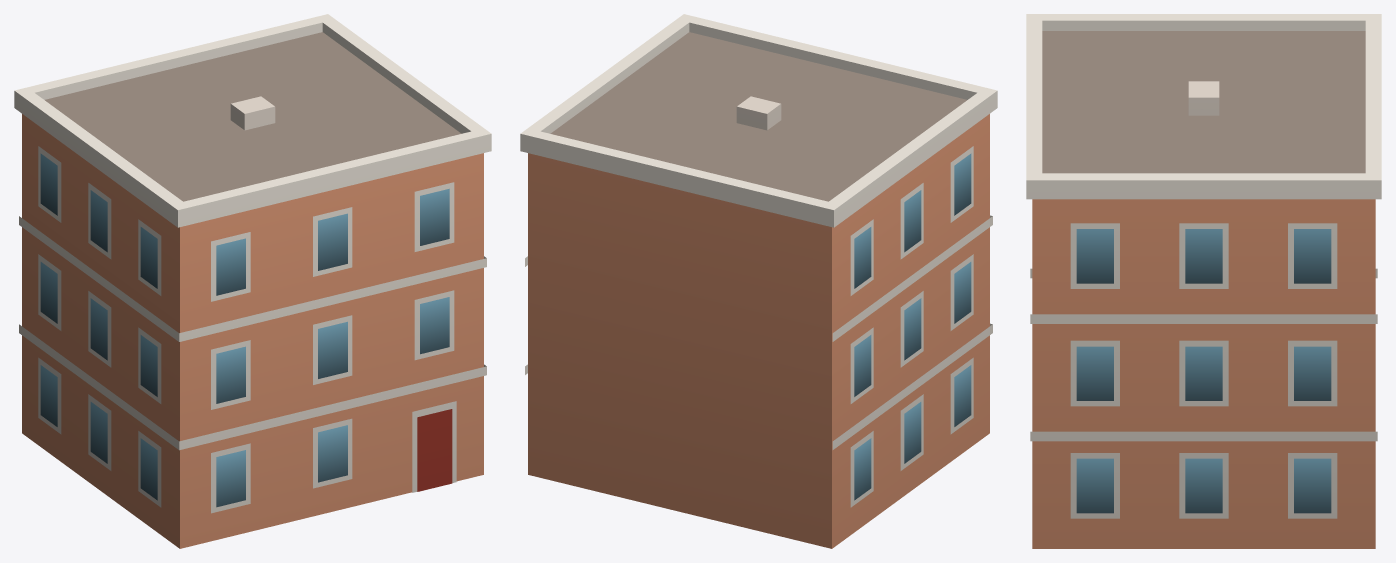
The model's file is vee_left2_far.glb.
3 views of the same model, side by side, from view 1: azimuth 30°, elevation 25°; view 2: azimuth 150°, elevation 25°; view 3: azimuth 270°, elevation 25° (orthographic). The views are drawn at different scales.
Parts seen in each view (by area): view 1: vee_left2_far; view 2: vee_left2_far; view 3: vee_left2_far.
Boxes of the visible parts, box(x1,y1,x2,y2) form: vee_left2_far: box(14, 14, 491, 548); vee_left2_far: box(520, 14, 997, 548); vee_left2_far: box(1026, 14, 1381, 548).
Size of the model in its own units: 10.32 by 10.97 by 9.32.
Materials: 1 (1 with a texture image).
